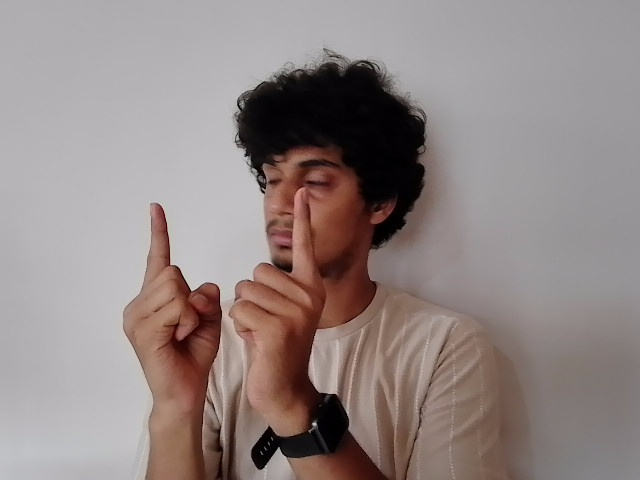play: (121, 184, 324, 389)
